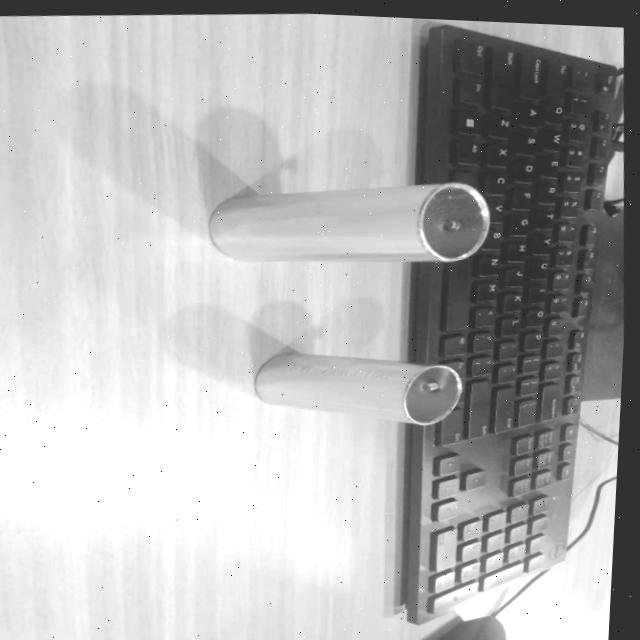Co_Lon: (209, 183, 489, 262)
Co_Nho: (252, 347, 463, 429)
